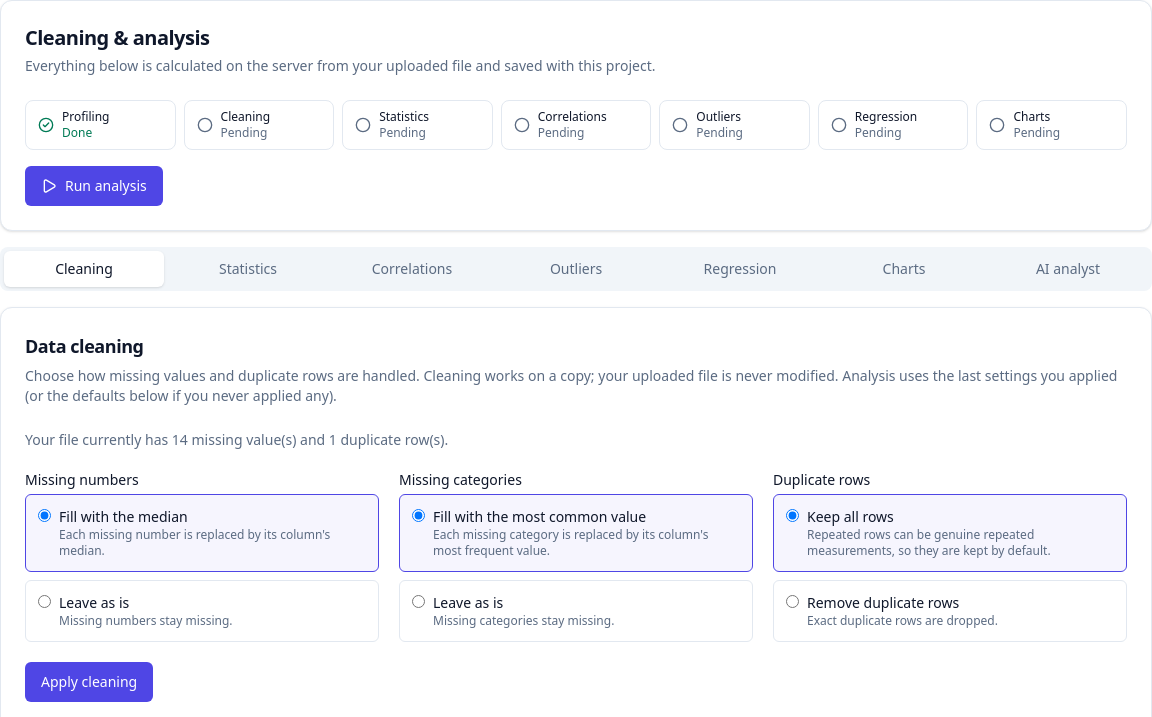
Test: AnalysisWorkspace — running the analysis › shows the server's message when the run fails
Click the button "Run analysis".
click(94, 186)  # box [25,166,163,206]
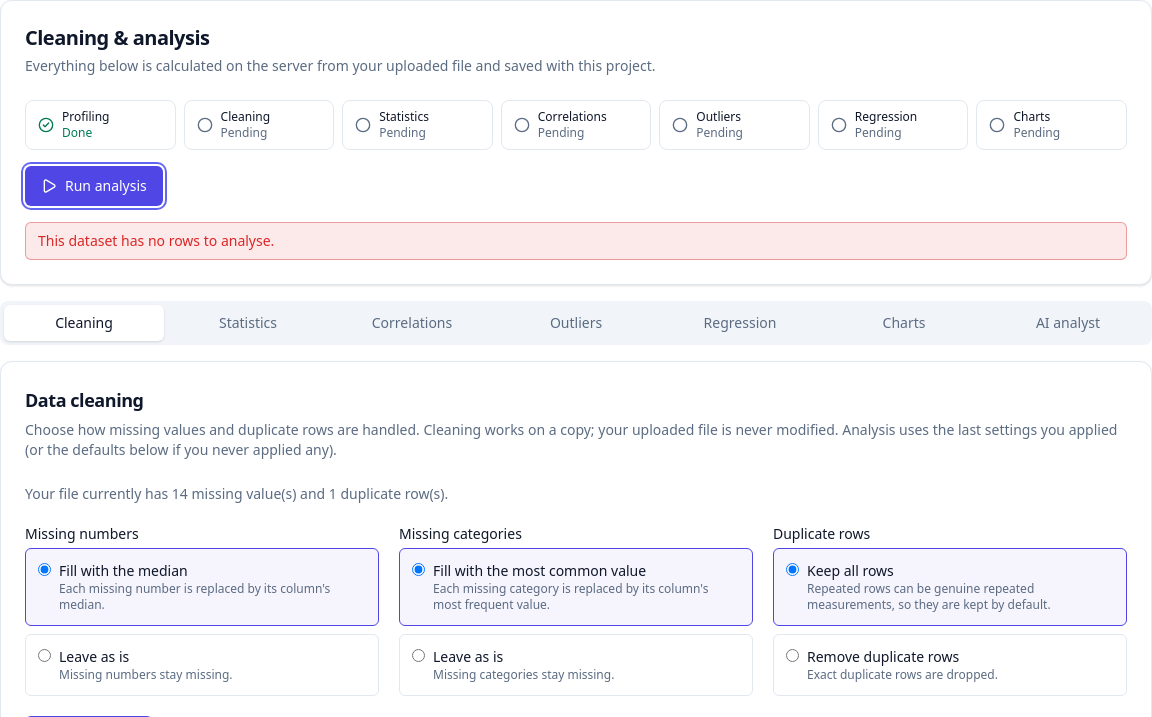
Result: the message reads "This dataset has no rows to analyse." at [38,231,274,250]
